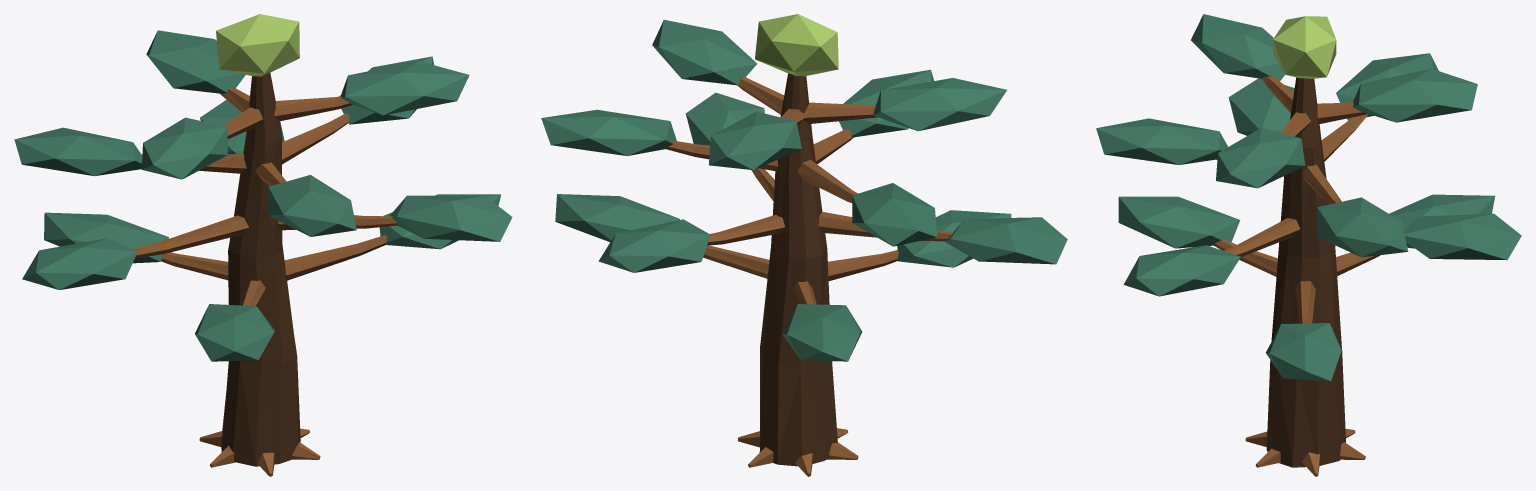
3 renders of one model, left to right at view 1: azimuth 30°, elevation 25°; view 2: azimuth 150°, elevation 25°; view 3: azimuth 270°, elevation 25°, orthographic.
Parts seen in each view (by area): view 1: WK_FantasyTree_GiantAncientCedar_LOD0_High; view 2: WK_FantasyTree_GiantAncientCedar_LOD0_High; view 3: WK_FantasyTree_GiantAncientCedar_LOD0_High.
Boxes of the visible parts, x1,y1,x2,y2 form: WK_FantasyTree_GiantAncientCedar_LOD0_High: (14,14,512,476); WK_FantasyTree_GiantAncientCedar_LOD0_High: (541,14,1067,476); WK_FantasyTree_GiantAncientCedar_LOD0_High: (1096,14,1521,476).
Bounding box in the file's own units: 13.11 × 11.31 × 9.92.
